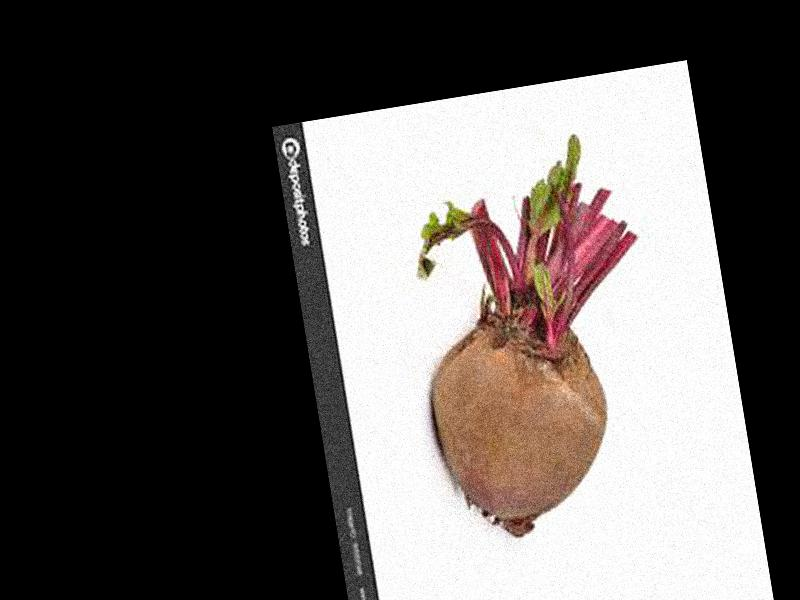Beet: (390, 127, 681, 548)
